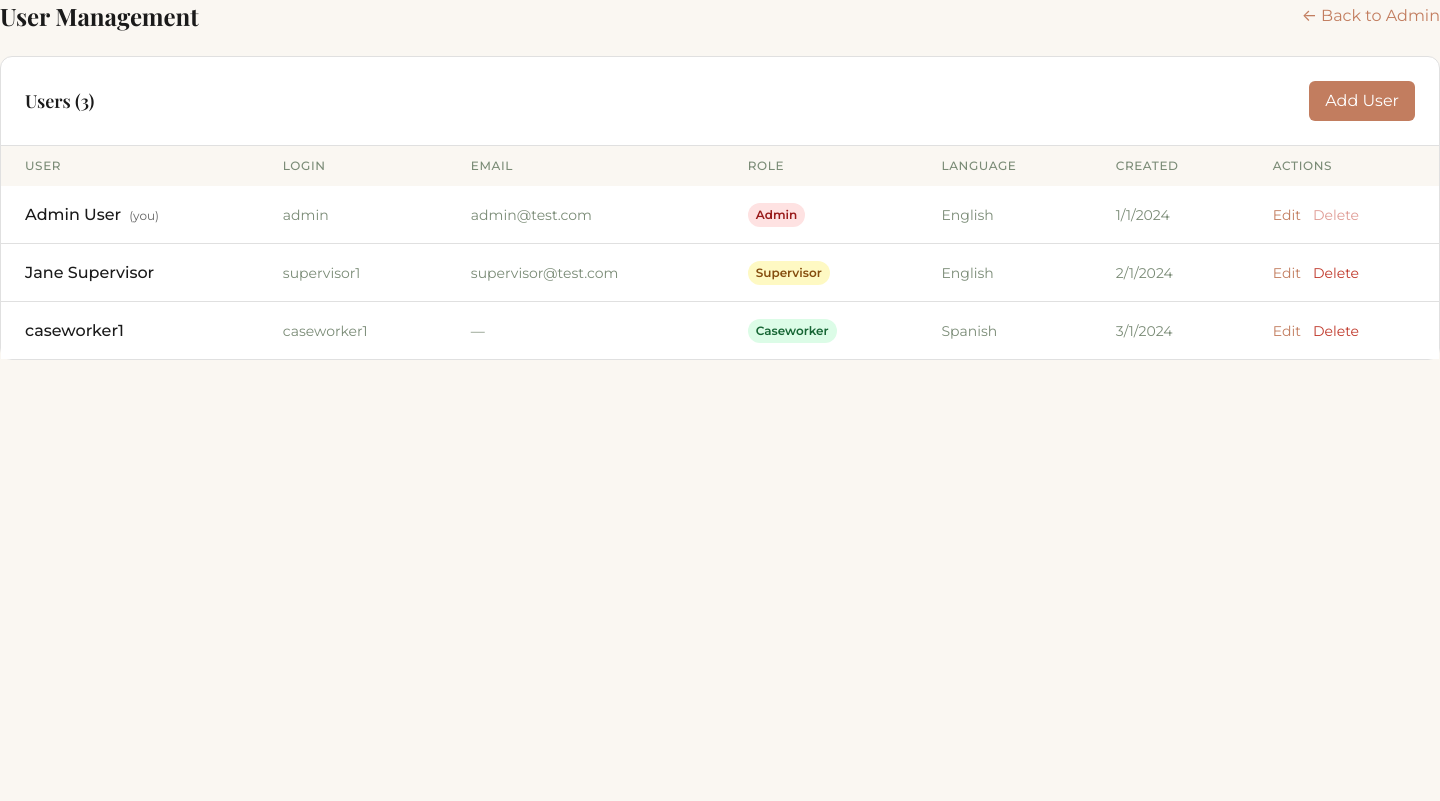
AdminUsersPage › should cancel form when cancel button clicked
Expected: the heading "Users (3)" is shown, [25,87,94,115]
// Open form
Click the button "Add User" at coordinates (1362, 101), box [1309,81,1415,121]
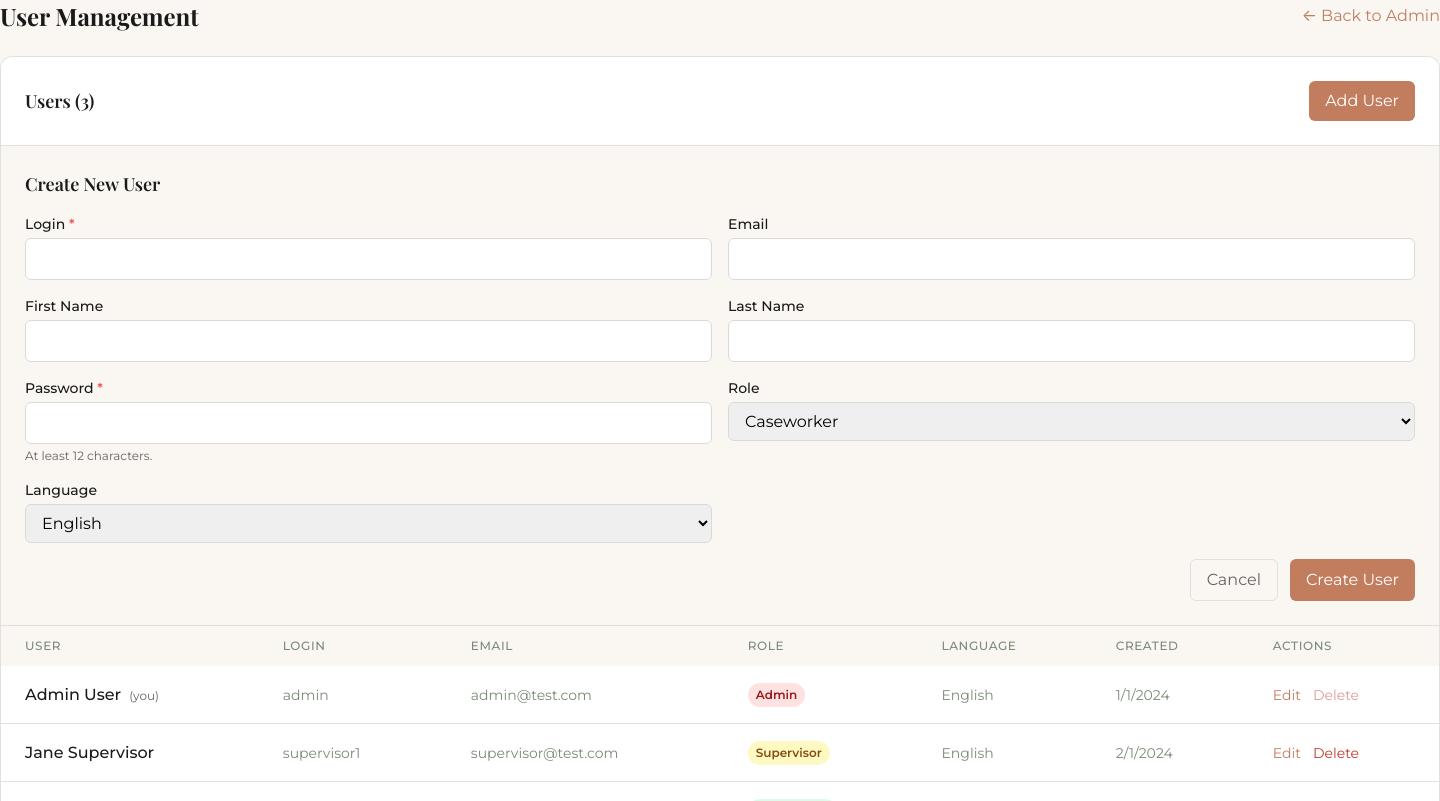
Expected: the heading "Create New User" is shown, [25,172,160,196]
Click the button "Cancel" at coordinates (1234, 580), box [1190,559,1278,601]
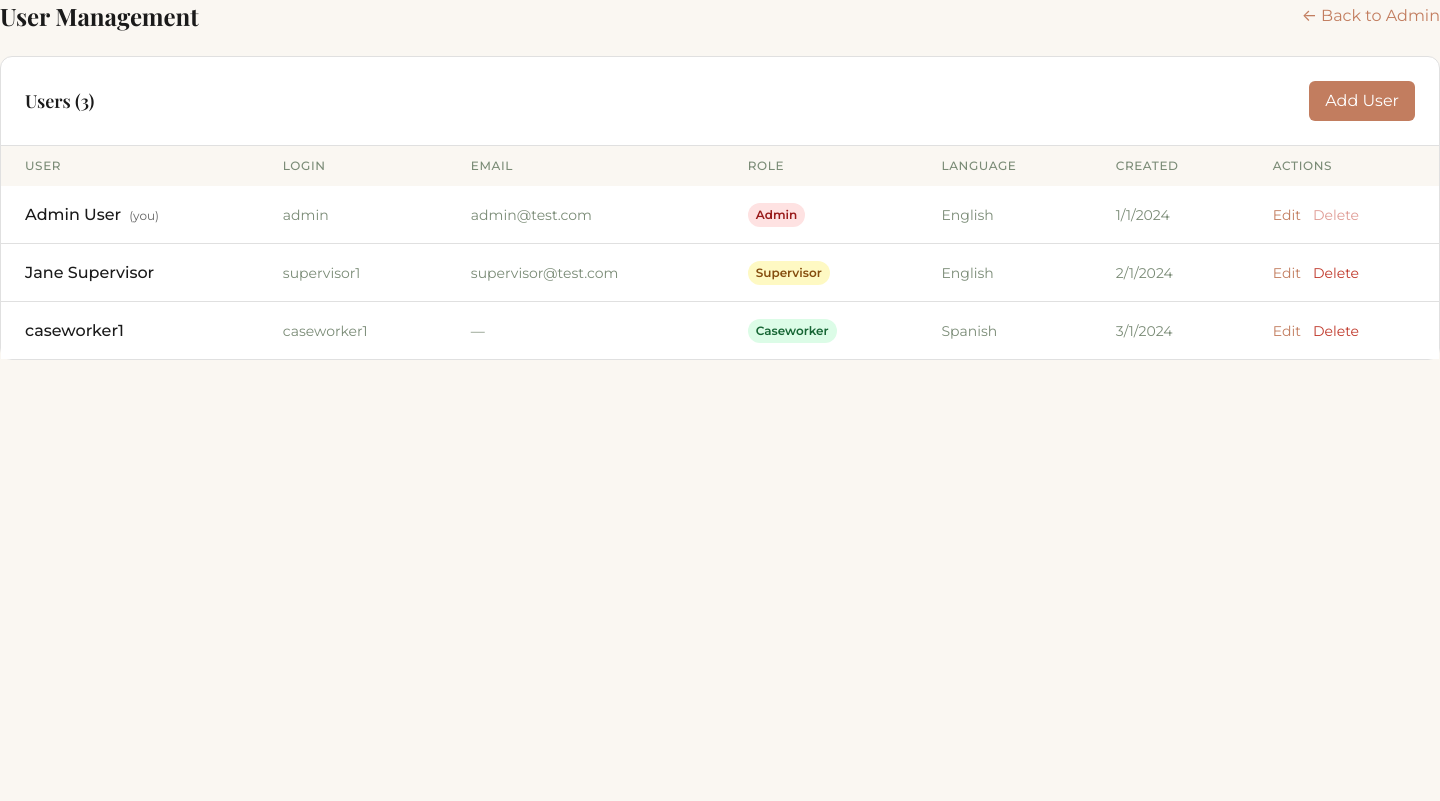
Expected: the heading "Create New User" is gone
